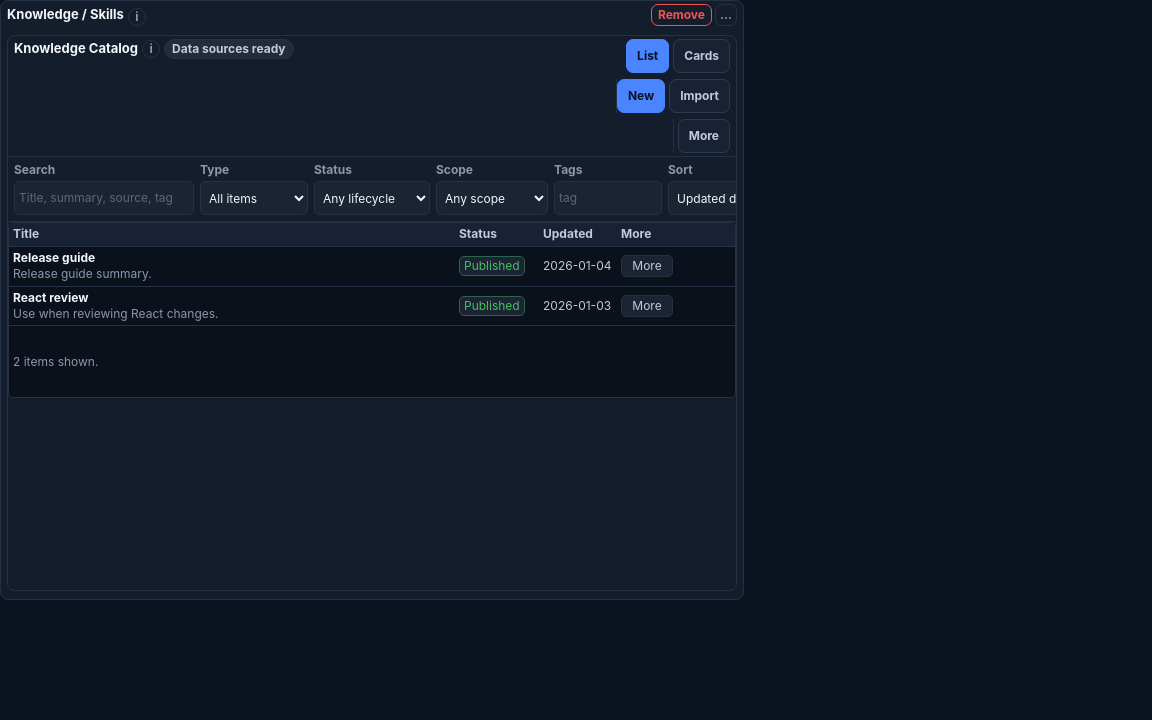
Test: Knowledge / Skills compatibility routing › opens existing Knowledge / Skills flows only from explicit Knowledge popup actions
Click the button "New": (641, 96) [617, 79, 665, 113]
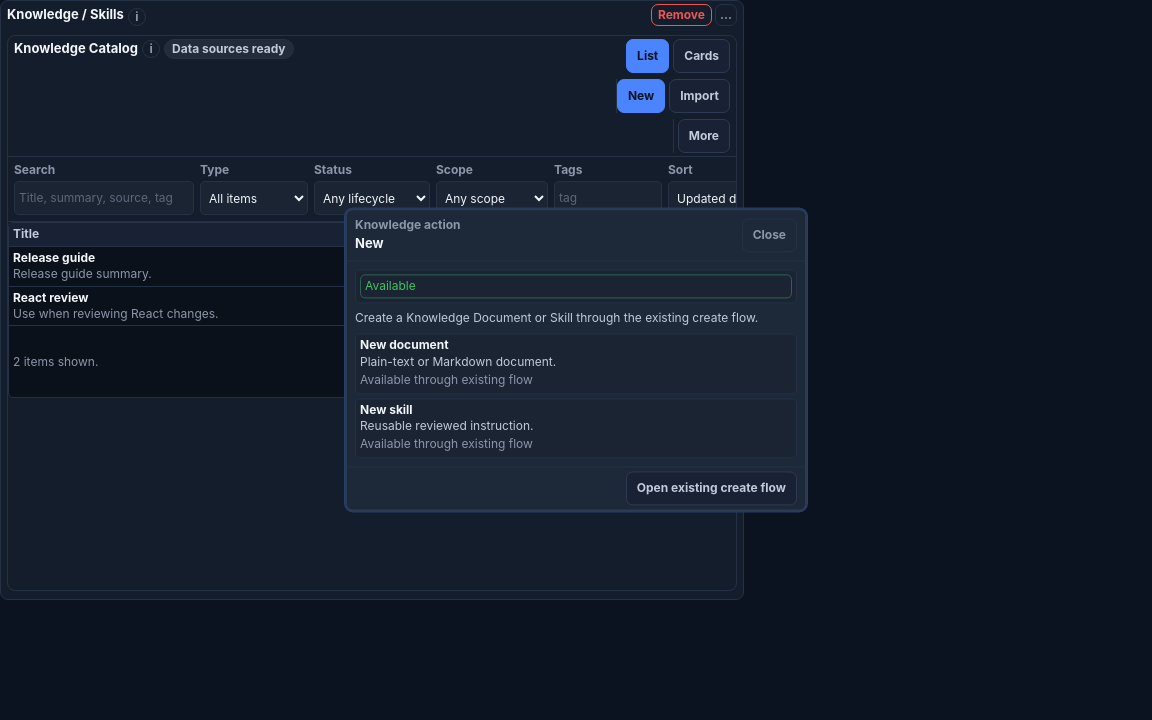
Check: the dialog shows "New document", box [360, 338, 449, 353]
Check: the button "Open existing create flow" is shown
Click the button "Open existing create flow": (711, 489) [626, 472, 797, 506]
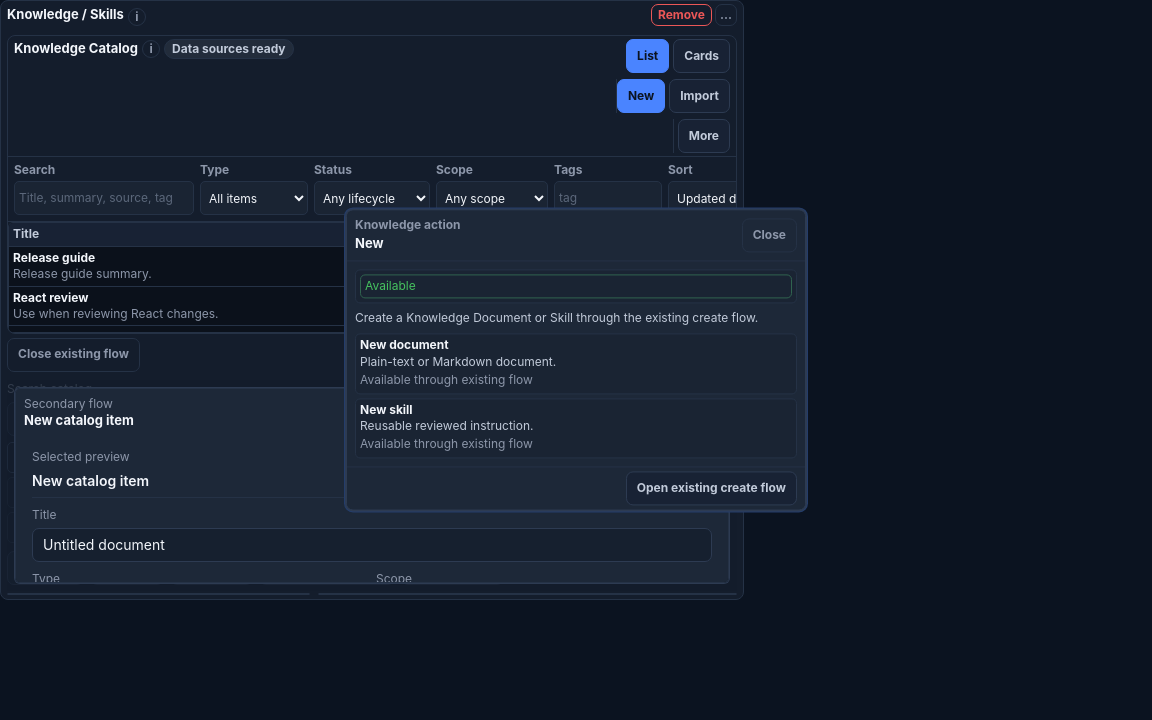
Check: the element named "Legacy Knowledge / Skills existing flow" is shown, box [7, 338, 737, 591]
Check: the element named "Catalog item editor" is shown, box [15, 388, 729, 583]
